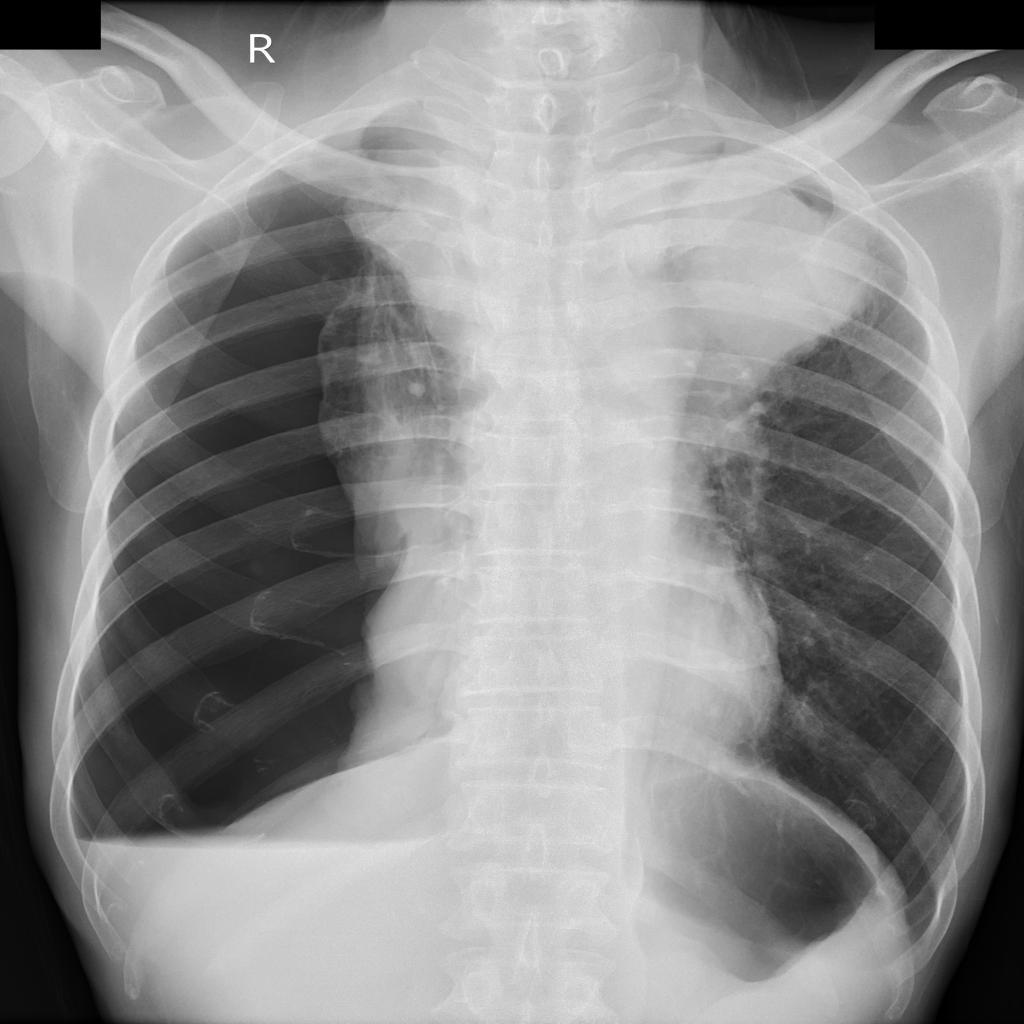Nodule: (651, 162, 872, 380)
